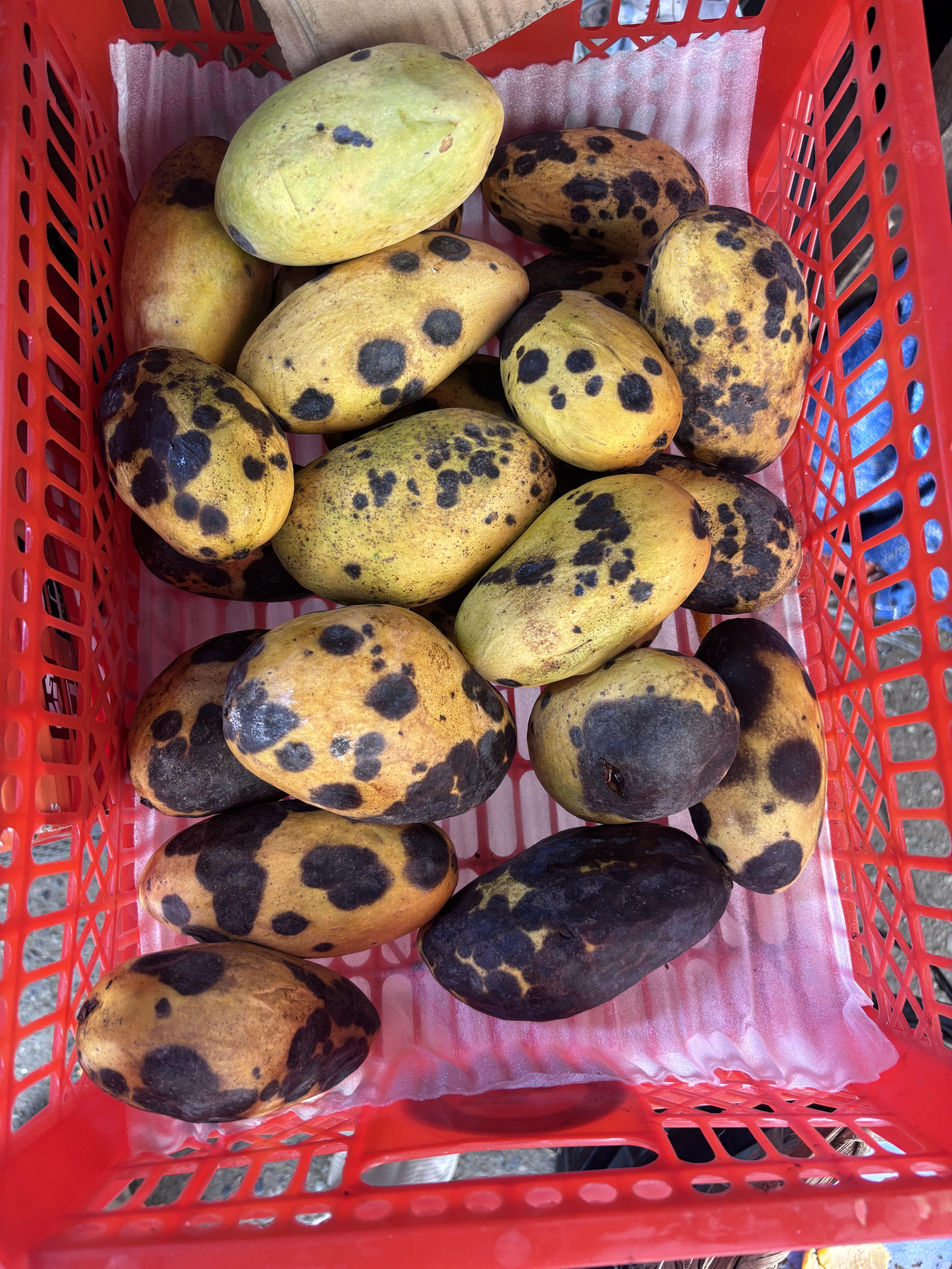mango: (223, 605, 516, 825), (215, 43, 504, 266), (418, 823, 732, 1022), (76, 941, 380, 1123), (455, 475, 710, 686), (99, 346, 294, 566), (527, 647, 739, 824), (500, 291, 682, 473)
occluded: (235, 232, 529, 434), (274, 407, 556, 607), (139, 801, 458, 958), (640, 205, 812, 474), (690, 618, 827, 894), (121, 136, 272, 372), (482, 126, 708, 265), (128, 629, 284, 818), (631, 454, 802, 615), (384, 353, 515, 421), (526, 252, 647, 318)
